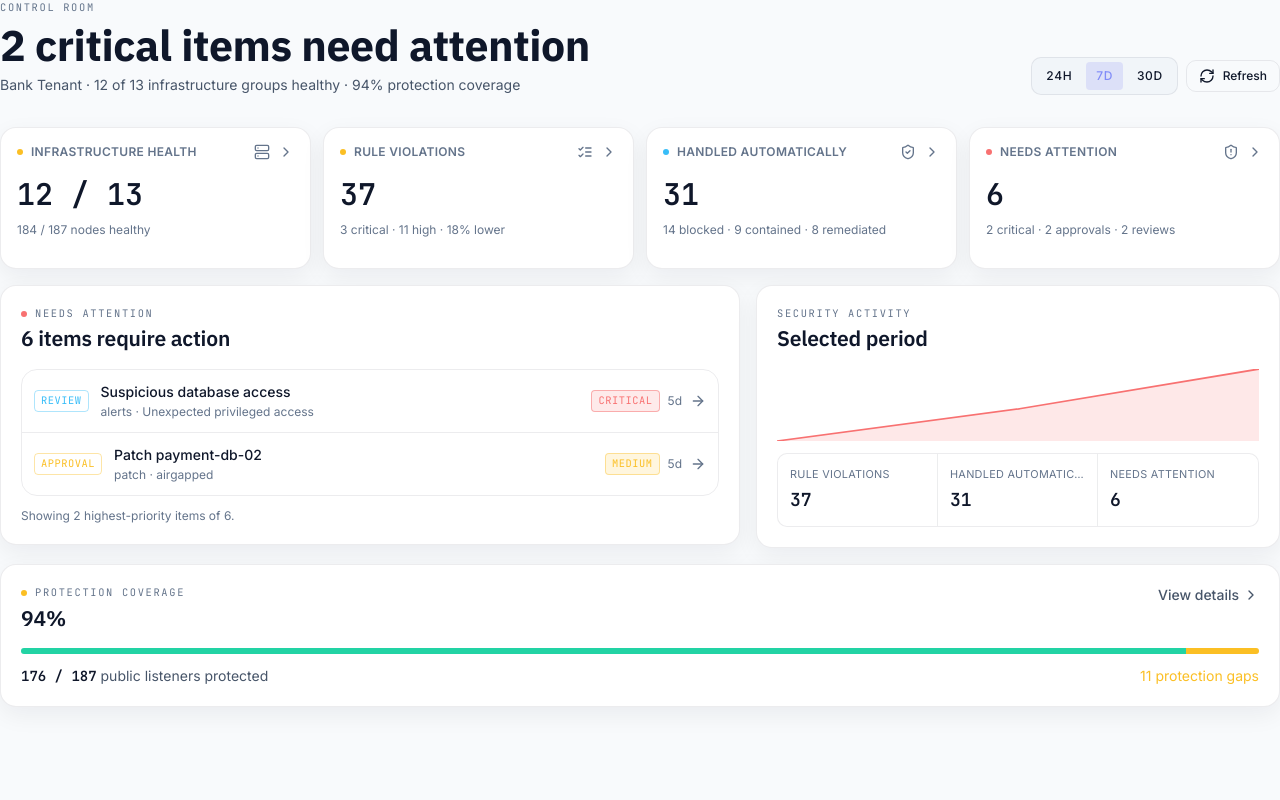
Test: ControlRoom executive dashboard › reveals metric detail on interaction instead of loading it into the page
The width and height of the screenshot is (1280, 800).
expect the text "Suspicious database access" is shown: met, box [100, 383, 290, 400]
Click the button with aria-label "Infrastructure health: view details": (114, 151) [0, 127, 311, 269]
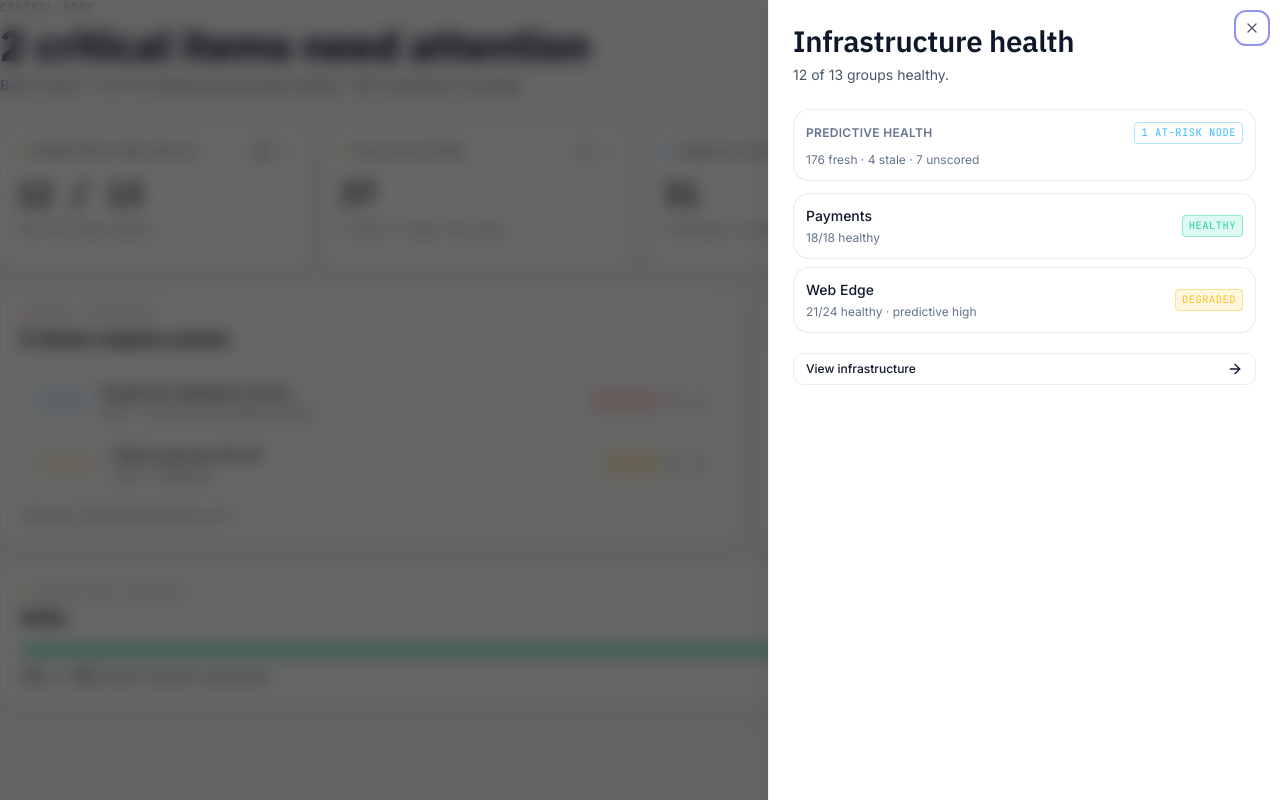
expect the heading "Infrastructure health" is shown: met, box [793, 22, 1074, 60]
expect the text "Payments" is shown: met, box [806, 206, 880, 226]
expect the text "Web Edge" is shown: met, box [806, 281, 874, 298]
